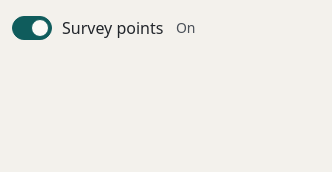
Test: Switch › toggles by click and by keyboard
This screenshot has width=332, height=172.
Step 1. Click the switch labelled "Survey points" → (105, 28), box [12, 12, 198, 44]
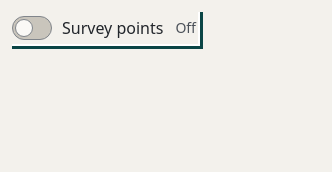
Now the switch labelled "Survey points" is not checked, box [12, 12, 198, 44]
Now the text "Off" is shown, box [175, 18, 196, 36]
Step 2. Type keys " "
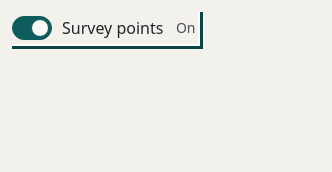
Now the switch labelled "Survey points" is checked, box [12, 12, 198, 44]
